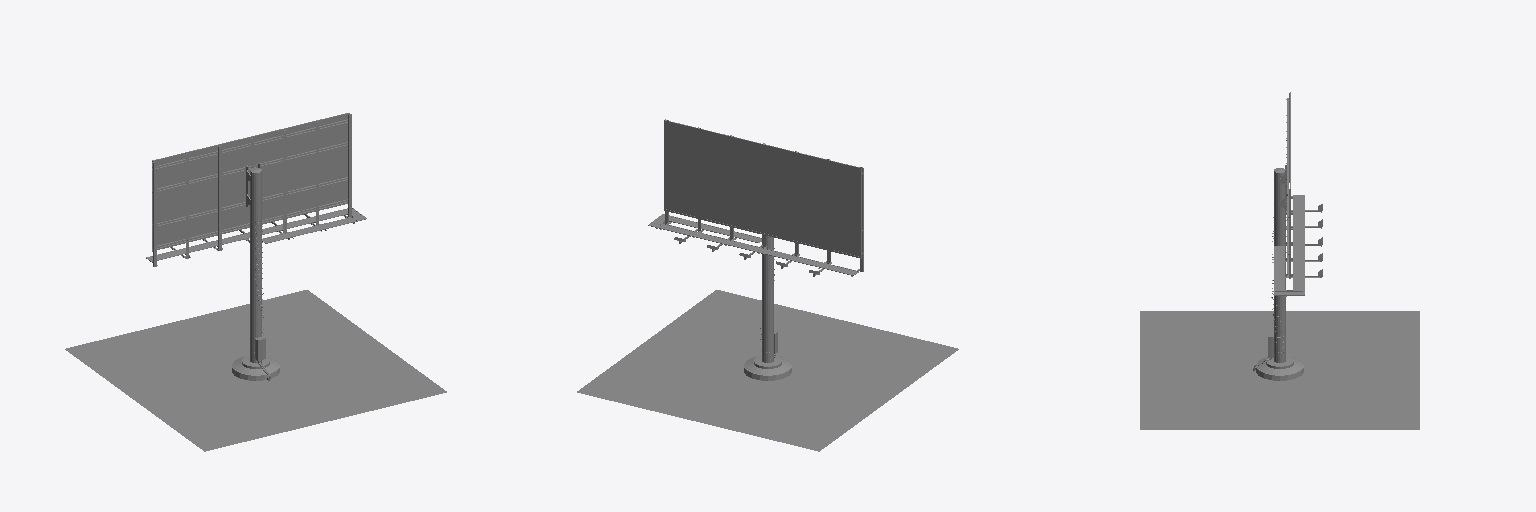
Rendered from billboard_a.obj.
The picture shows the model from 3 angles: view 1: azimuth 30°, elevation 25°; view 2: azimuth 150°, elevation 25°; view 3: azimuth 270°, elevation 25°; orthographic projection.
Visible parts, largest first — view 1: ground_A, Billboard_A; view 2: ground_A, Billboard_A; view 3: ground_A, Billboard_A.
Boxes of the visible parts, x1=… form: ground_A: x1=65, y1=290, x2=446, y2=451; Billboard_A: x1=146, y1=113, x2=366, y2=380; ground_A: x1=577, y1=290, x2=958, y2=451; Billboard_A: x1=648, y1=119, x2=863, y2=380; ground_A: x1=1140, y1=311, x2=1419, y2=429; Billboard_A: x1=1253, y1=92, x2=1322, y2=380.
Size of the model in its own units: 10.21 by 9.26 by 10.21.